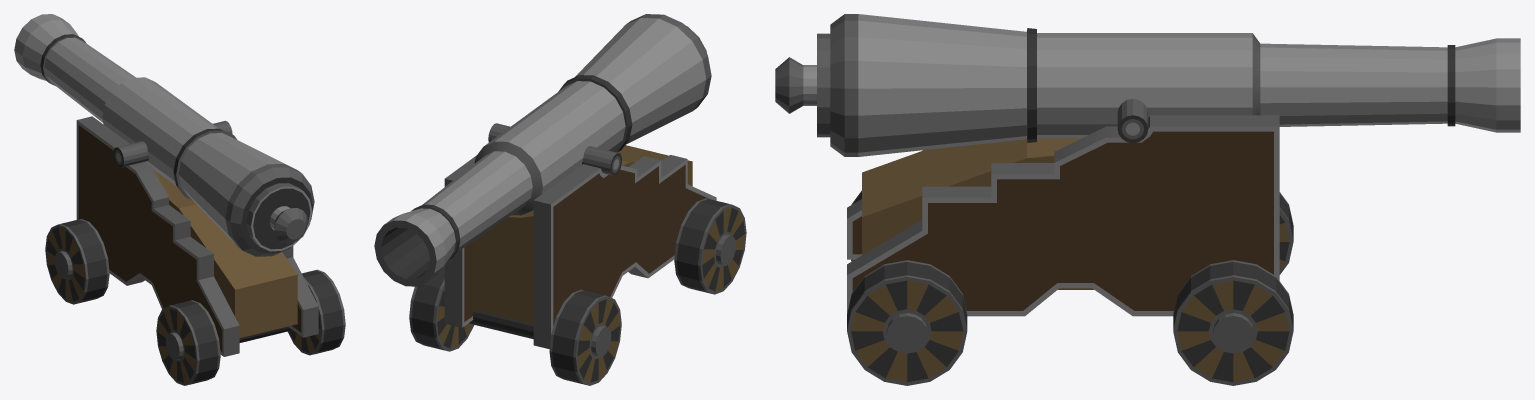
File: sm_cannon_1.fbx
3 views of the same model, side by side, from view 1: azimuth 30°, elevation 25°; view 2: azimuth 150°, elevation 25°; view 3: azimuth 270°, elevation 25° (orthographic). The views are drawn at different scales.
Visible parts, largest first — view 1: sm_cannon_1; view 2: sm_cannon_1; view 3: sm_cannon_1.
Part boxes in pixels (bbox=[...]): sm_cannon_1: bbox=[14, 14, 345, 385]; sm_cannon_1: bbox=[374, 14, 746, 385]; sm_cannon_1: bbox=[775, 14, 1520, 385].
Bounding box in the file's own units: 48.16 × 62.44 × 135.
